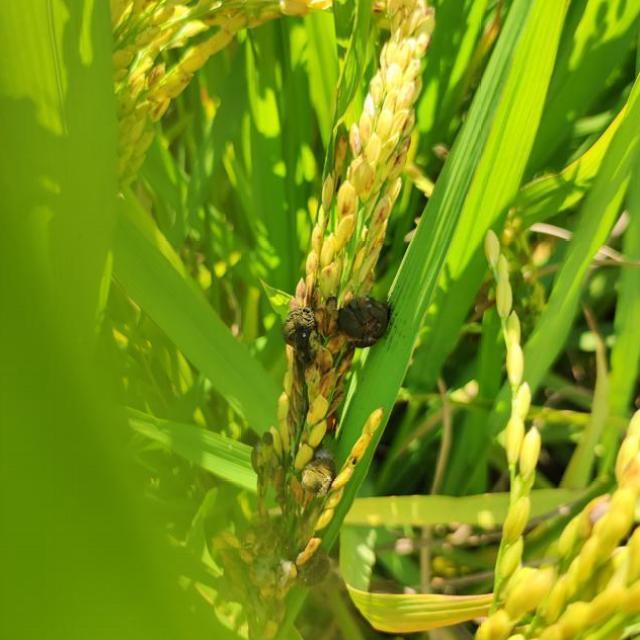Leaf_Scald: (334, 290, 394, 348), (288, 534, 332, 588), (296, 452, 340, 498), (278, 303, 318, 351)
